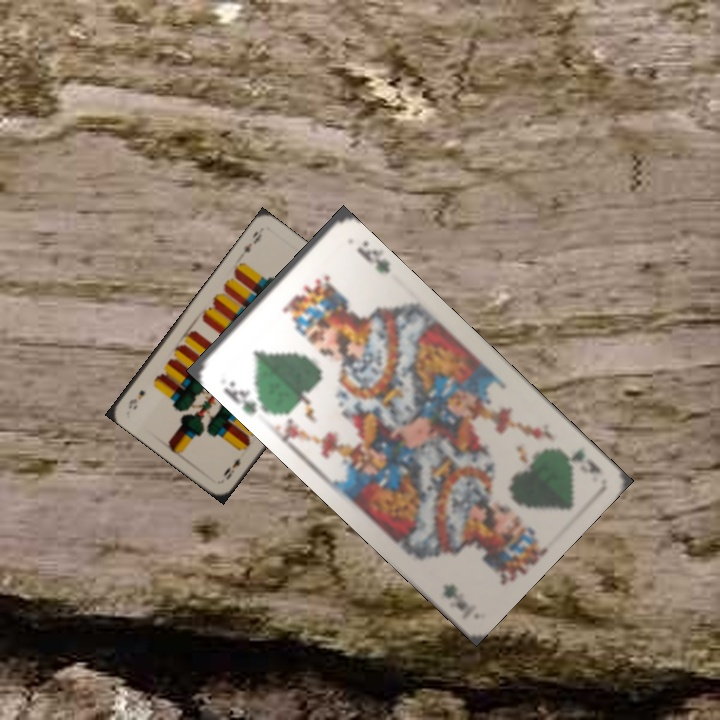E9: (240, 227, 265, 256), (219, 454, 243, 483)
GK: (219, 376, 266, 417), (549, 442, 605, 476)
